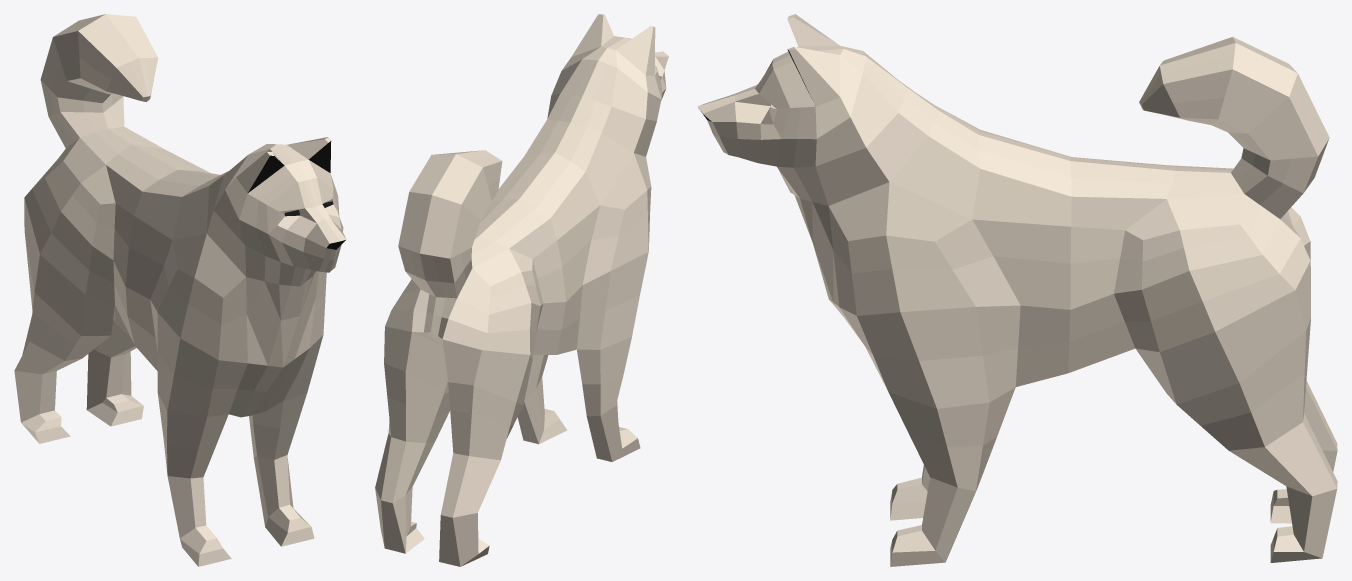
File: Dog_M_v1_Carrie.FBX
3 renders of one model, left to right at view 1: azimuth 30°, elevation 25°; view 2: azimuth 150°, elevation 25°; view 3: azimuth 270°, elevation 25°, orthographic. The views are drawn at different scales.
Visible parts, largest first — view 1: dog; view 2: dog; view 3: dog.
Boxes of the visible parts, bbox=[...] form: dog: bbox=[14, 14, 346, 566]; dog: bbox=[375, 14, 668, 566]; dog: bbox=[697, 14, 1337, 566].
Size of the model in its own units: 89.18 by 250 by 288.
